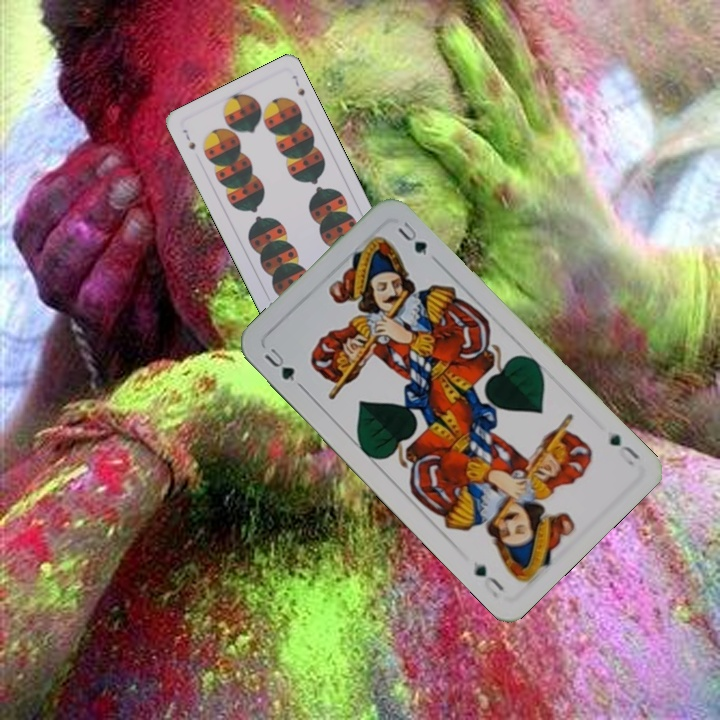GU: (260, 343, 298, 384), (605, 430, 643, 468)
S7: (179, 125, 198, 152)
